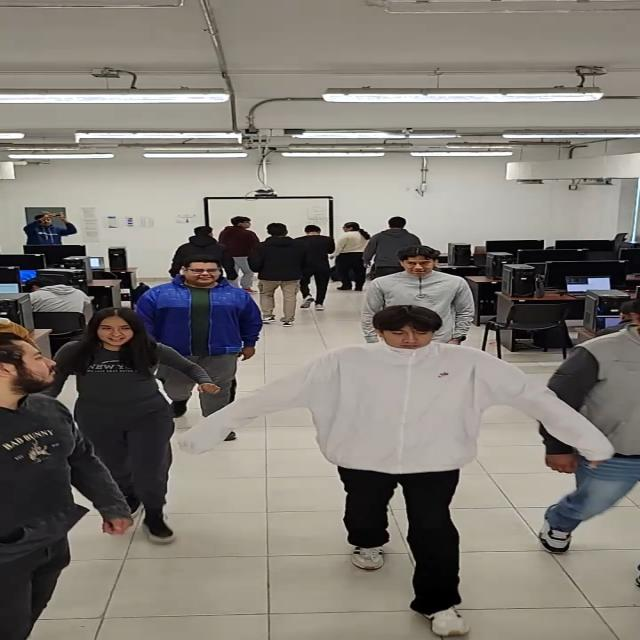Persona: (334, 303, 494, 640), (541, 290, 640, 574), (0, 330, 89, 640), (81, 306, 177, 550), (158, 251, 259, 449), (370, 243, 476, 302), (256, 220, 301, 326), (220, 212, 256, 290), (304, 218, 330, 312), (337, 214, 368, 292)
